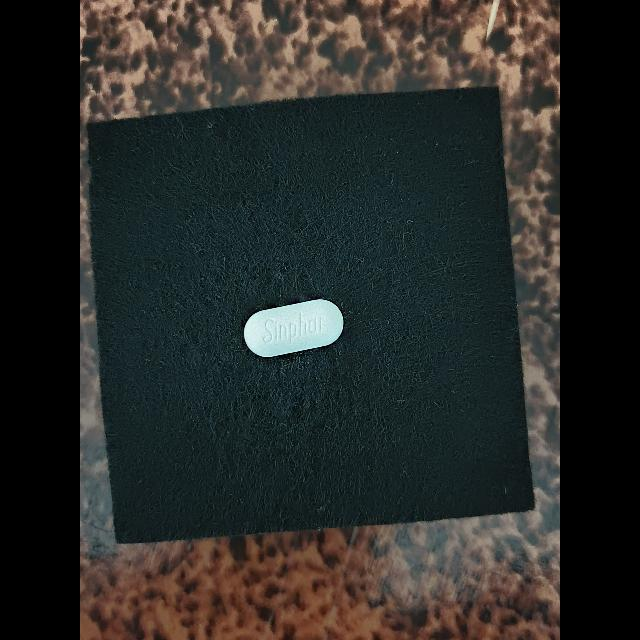Intact Pill: (244, 299, 344, 357)
